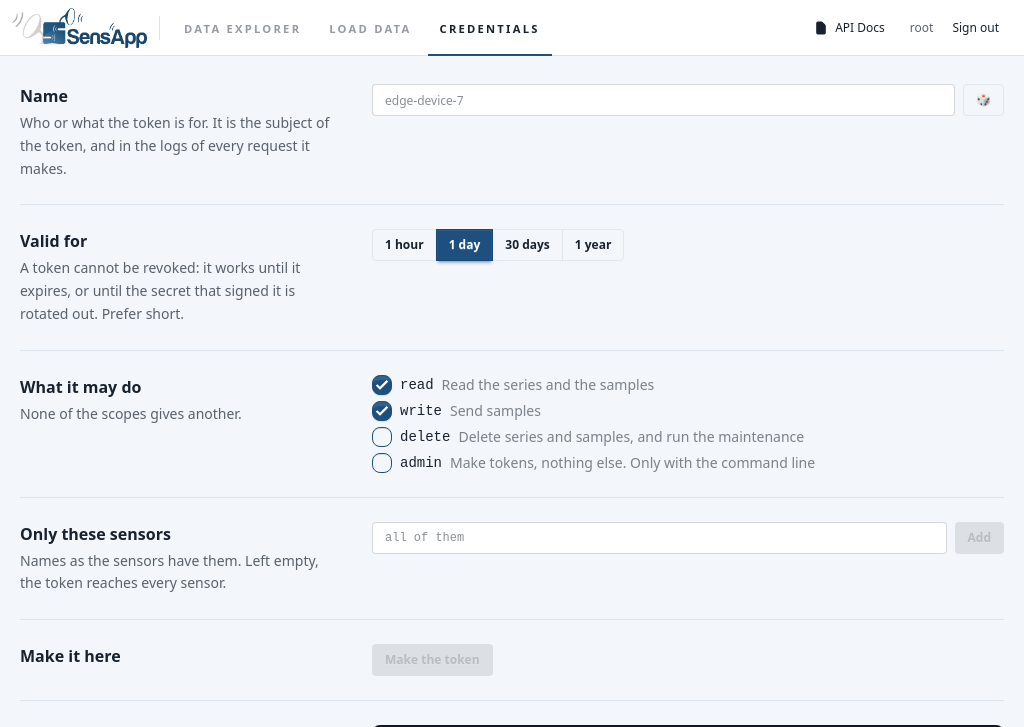
Test: CredentialsPage › fills the name with a random one, to click again for another
Click the button named "Random name": [984, 100] box [963, 84, 1004, 116]
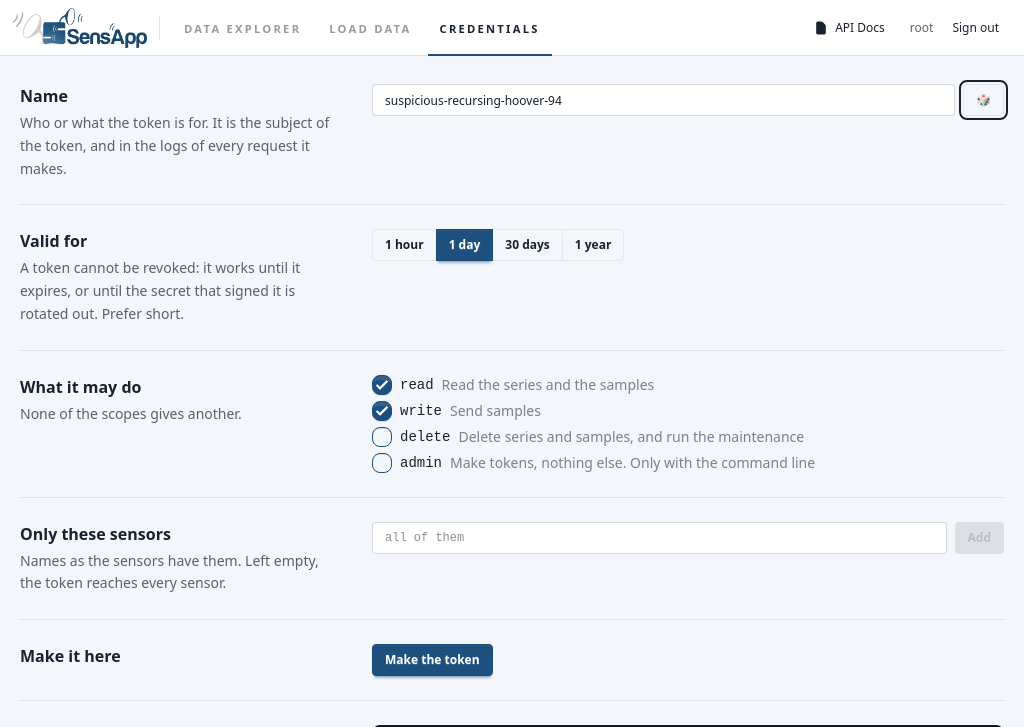
Check: the button "Make the token" is enabled, box [372, 644, 493, 676]
